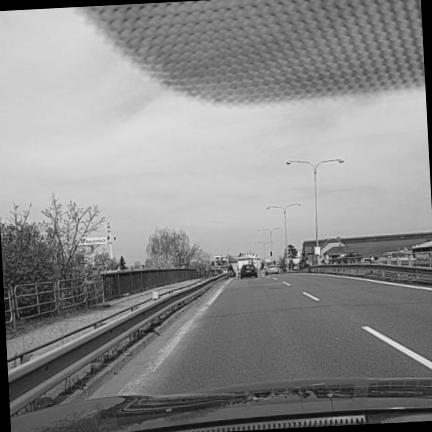Road: (93, 274, 431, 397)
